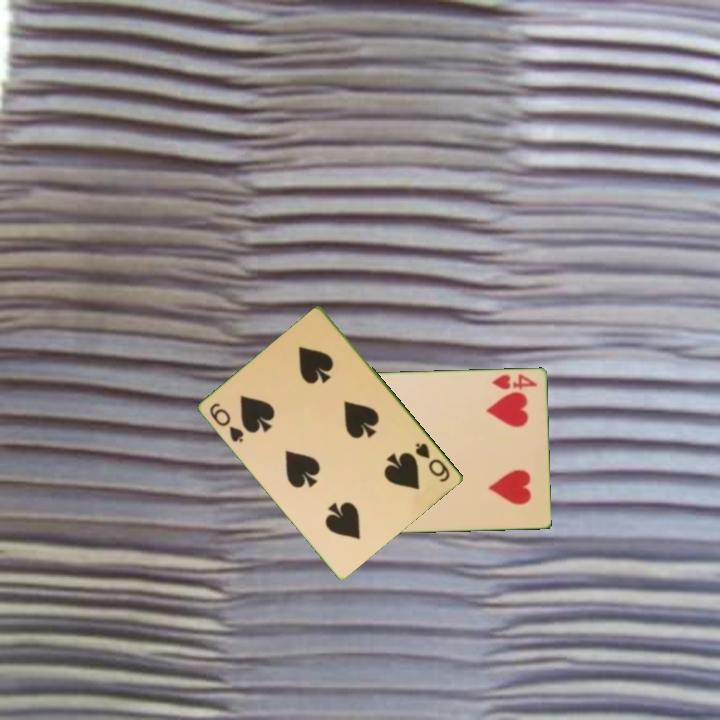4h: (488, 371, 539, 393)
6s: (206, 399, 247, 446), (412, 439, 453, 485)
